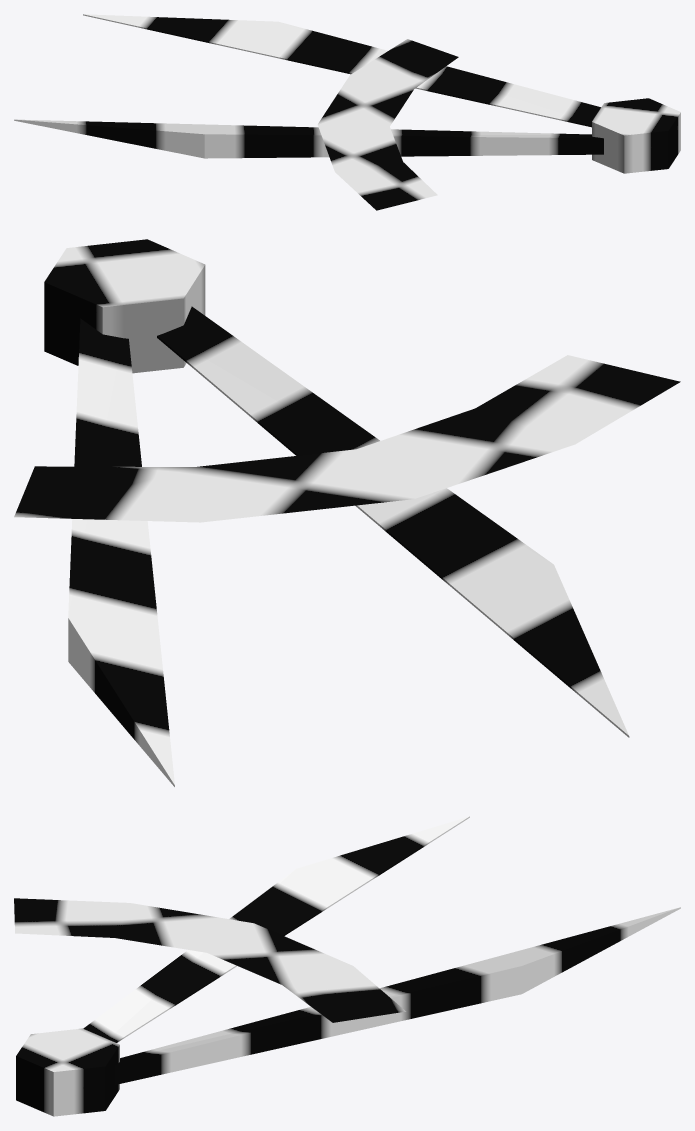
The model's file is initqu0.dae.
3 views of the same model, one above another, from view 1: azimuth 30°, elevation 25°; view 2: azimuth 150°, elevation 25°; view 3: azimuth 270°, elevation 25° (orthographic). The views are drawn at different scales.
Parts seen in each view (by area): view 1: item; view 2: item; view 3: item.
Boxes of the visible parts, left/top/right/bottom form: item: left=14, top=14, right=680, bottom=210; item: left=14, top=239, right=680, bottom=786; item: left=14, top=816, right=680, bottom=1116.
Bounding box in the file's own units: 1.46 × 1.48 × 0.1087.
Materials: 1 (1 with a texture image).
